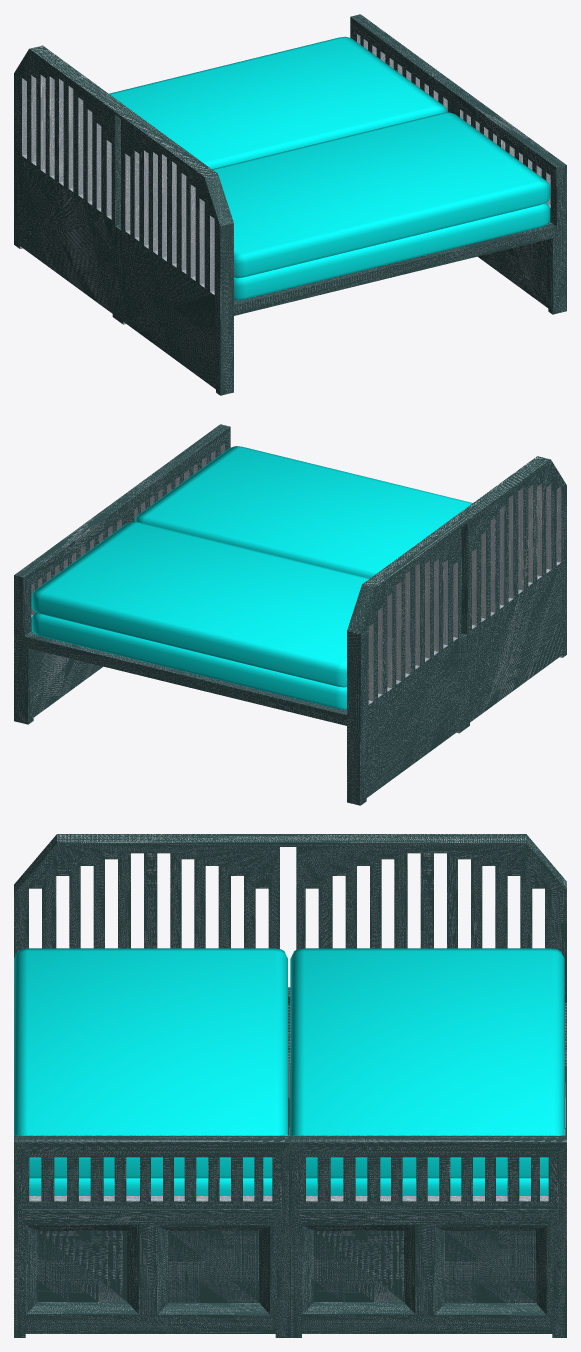
File: doublebed.fbx
3 renders of one model, top to bottom at view 1: azimuth 30°, elevation 25°; view 2: azimuth 150°, elevation 25°; view 3: azimuth 270°, elevation 25°, orthographic. The views are drawn at different scales.
Parts seen in each view (by area): view 1: Model, Queen_size_Mattress4, Queen_size_Mattress3, Queen_size_Mattress1; view 2: Model, Queen_size_Mattress3, Queen_size_Mattress4, Queen_size_Mattress2; view 3: Model, Queen_size_Mattress3, Queen_size_Mattress4, Queen_size_Mattress2, Queen_size_Mattress1.
Boxes of the visible parts, x1,y1,x2,y2 form: Model: (14, 14, 566, 395); Queen_size_Mattress4: (212, 112, 550, 277); Queen_size_Mattress3: (109, 36, 446, 168); Queen_size_Mattress1: (234, 203, 550, 300); Model: (14, 424, 566, 805); Queen_size_Mattress3: (31, 521, 369, 687); Queen_size_Mattress4: (135, 446, 472, 578); Queen_size_Mattress2: (31, 612, 346, 709); Model: (14, 834, 566, 1337); Queen_size_Mattress3: (290, 948, 564, 1178); Queen_size_Mattress4: (14, 948, 287, 1178); Queen_size_Mattress2: (306, 1178, 548, 1195); Queen_size_Mattress1: (29, 1178, 272, 1195).
Bounding box in the file's own units: 46.17 × 26.35 × 47.62.
